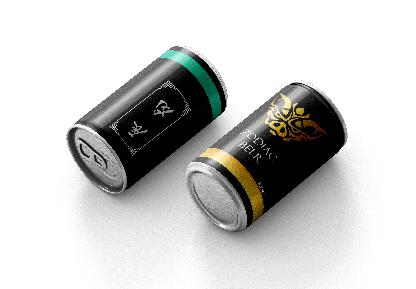Can: (186, 81, 347, 232), (67, 46, 228, 194)
